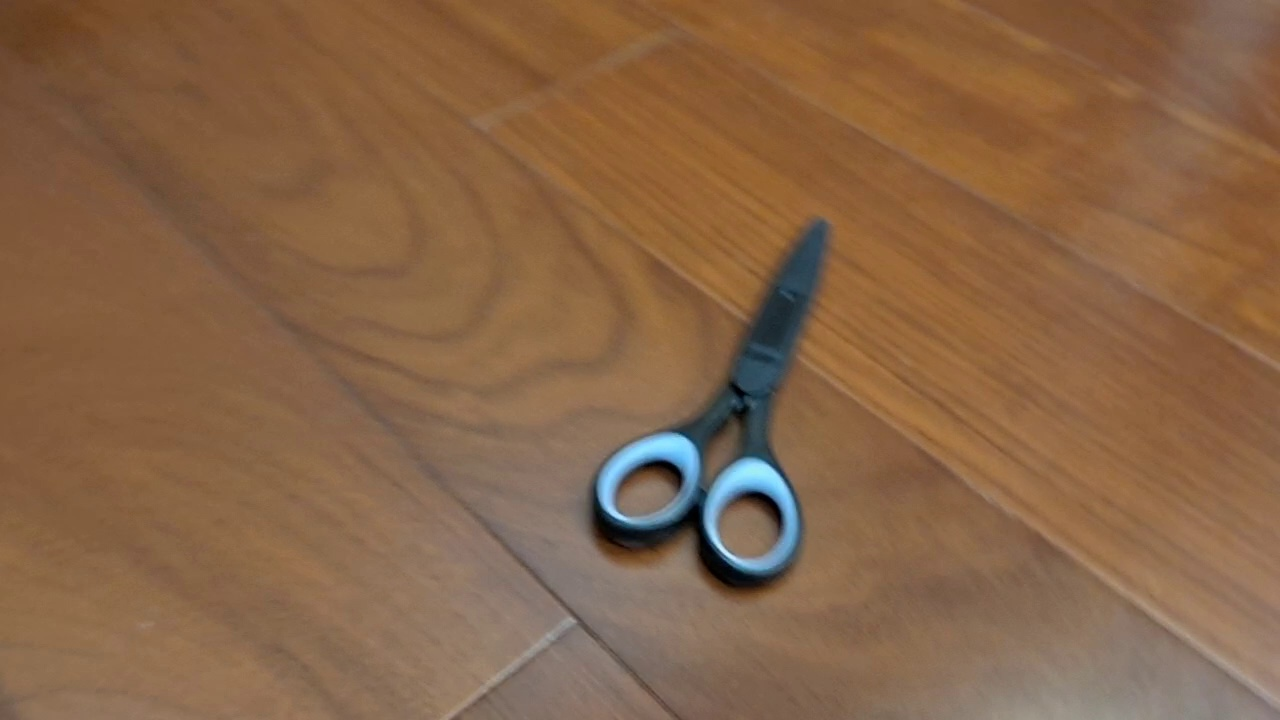scissors: (586, 214, 834, 595)
